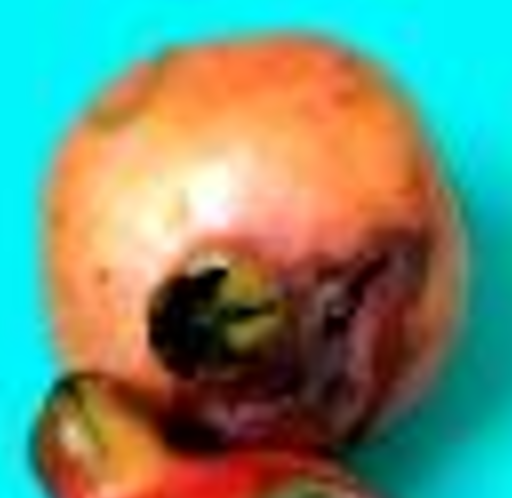pomegranate_C: (41, 32, 469, 455)
